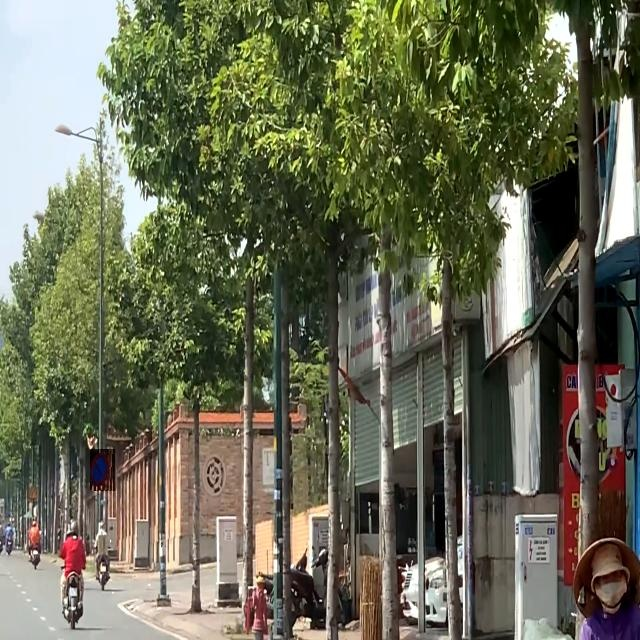bien_cam: (90, 449, 115, 491)
